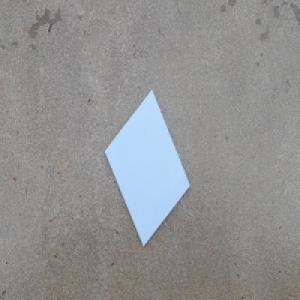PaintChip: (103, 88, 190, 248)
